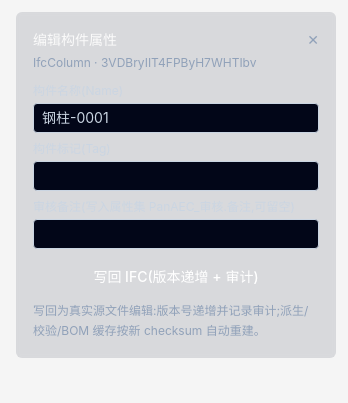
IfcElementEditOverlay › submits real write-back operations and shows the new version
Replace the text in the field labelled "构件名称(Name)" with "GZ-1" at (176, 118), box [33, 103, 319, 133]
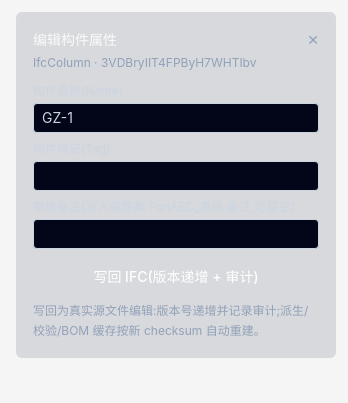
Click the button "写回 IFC(版本递增 + 审计)".
click(176, 277)  # box [33, 261, 319, 293]
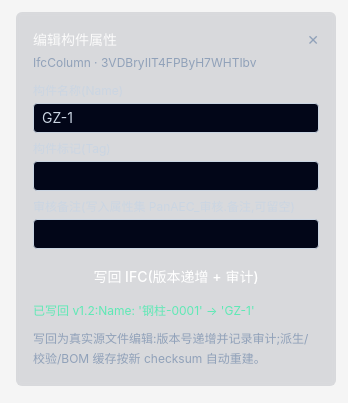
Result: the text "已写回 v1.2:Name: '钢柱-0001' -> 'GZ-1'" is shown at [33, 303, 254, 318]
